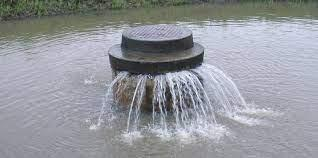drainage_overflow: (56, 8, 267, 144)
